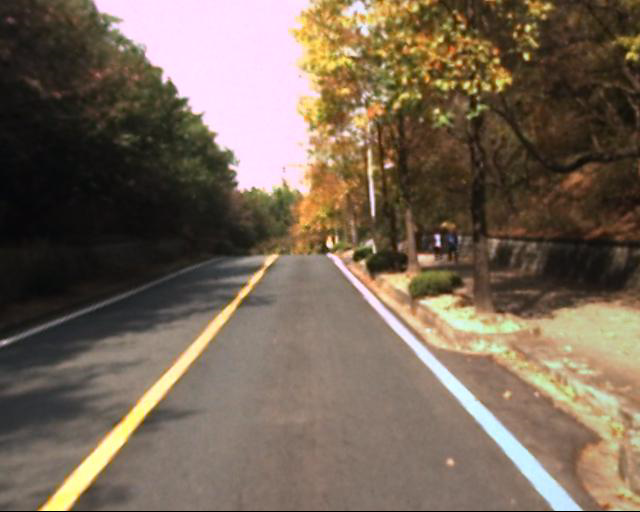person: (428, 220, 451, 265), (442, 220, 464, 267)
